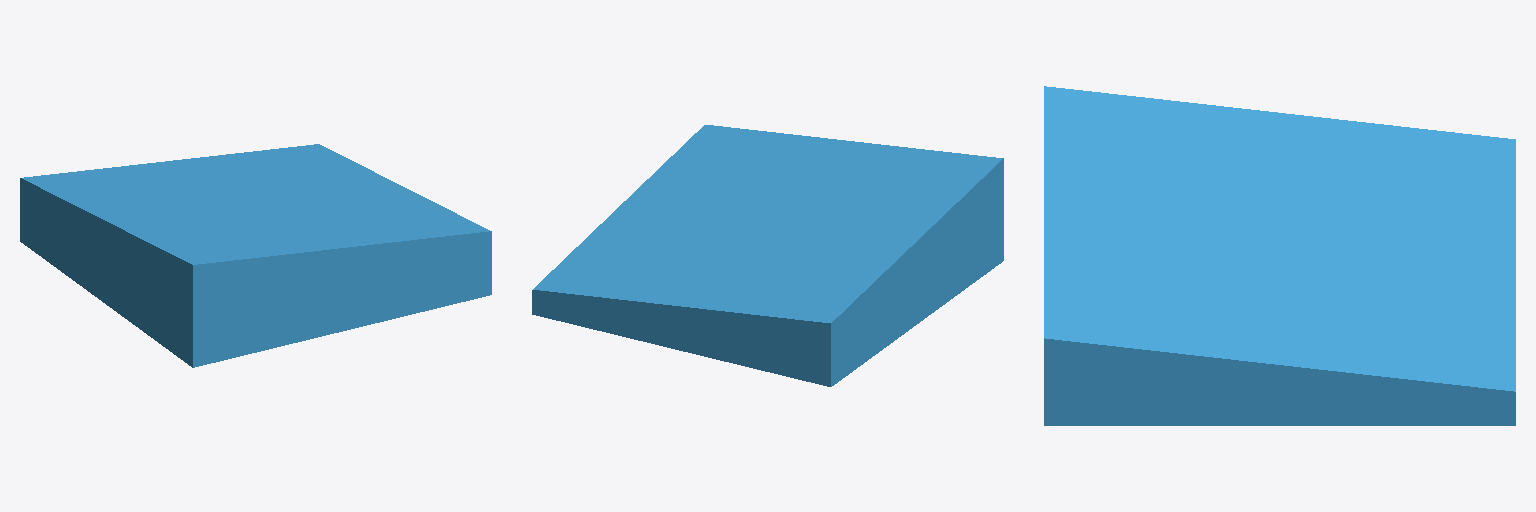
robot.urdf — diag_Y_positive_10_lifted_size_30:
<?xml version="1.0" ?>
<robot name="diag_Y_positive_10_lifted_size_30">
<!-- Used for fixing robot to Gazebo 'base_link' -->

<link name="world"/>

  <joint name="fixed" type="fixed">
    <parent link="world"/>
    <child link="diag_Y_positive_10_lifted_size_30__link"/>
  </joint>

  <link name="diag_Y_positive_10_lifted_size_30__link">
    <inertial>
      <mass value="10"/>
      <inertia ixx="1.0" ixy="0.0" ixz="0.0" iyy="1.0" iyz="0.0" izz="1.0"/>
    </inertial>
    <collision>
      <geometry>
         <mesh filename="package://pal_gazebo_worlds/models/diag_Y_positive_10_lifted_size_30/meshes/diag_Y_positive_10_degree_slope_lifted_size_30.stl" scale="0.00999 0.00999 0.00999"/>
      </geometry>
      <surface>
        <friction>
          <ode>
            <mu1 value="1.0" />
            <mu2 value="1.0" />
            <kp  value="1e5" />
            <kd  value="1e2" />
            <maxVel  value="100.0" />
            <minDepth  value="0.0" />
            <dampingFactor>0.01</dampingFactor>
          </ode>
        </friction>
      </surface>
    </collision>
    <visual>
      <geometry>
        <mesh filename="package://pal_gazebo_worlds/models/diag_Y_positive_10_lifted_size_30/meshes/diag_Y_positive_10_degree_slope_lifted_size_30.stl" scale="0.00999 0.00999 0.00999"/>
      </geometry>
      <material name="white">
      </material>
    </visual>
  </link>



</robot>

--- Facts derived from the render (not from the file) ---
Views: 3 orthographic renders of the robot side by side, from view 1: azimuth 30°, elevation 25°; view 2: azimuth 150°, elevation 25°; view 3: azimuth 270°, elevation 25°.
Robot: diag_Y_positive_10_lifted_size_30 — 2 links, 1 joints (1 fixed); root link world; default pose: every joint at zero.
Visible links, largest first — view 1: diag_Y_positive_10_lifted_size_30__link; view 2: diag_Y_positive_10_lifted_size_30__link; view 3: diag_Y_positive_10_lifted_size_30__link.
Link boxes in pixels (x1=…): diag_Y_positive_10_lifted_size_30__link: x1=20, y1=144, x2=491, y2=367; diag_Y_positive_10_lifted_size_30__link: x1=532, y1=125, x2=1003, y2=386; diag_Y_positive_10_lifted_size_30__link: x1=1044, y1=86, x2=1515, y2=425.
Bounding box of the posed robot: 0.2997 × 0.2997 × 0.0987 m (x, y, z).
1 mesh visuals loaded from 1 distinct referenced files (1 binary STL).